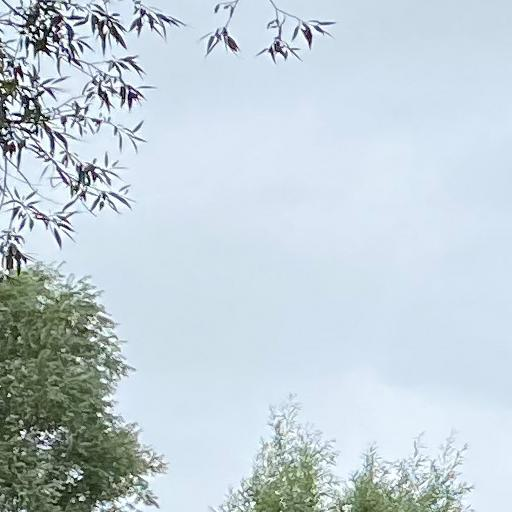tree: (1, 1, 337, 289), (1, 259, 169, 512), (209, 392, 476, 512)
